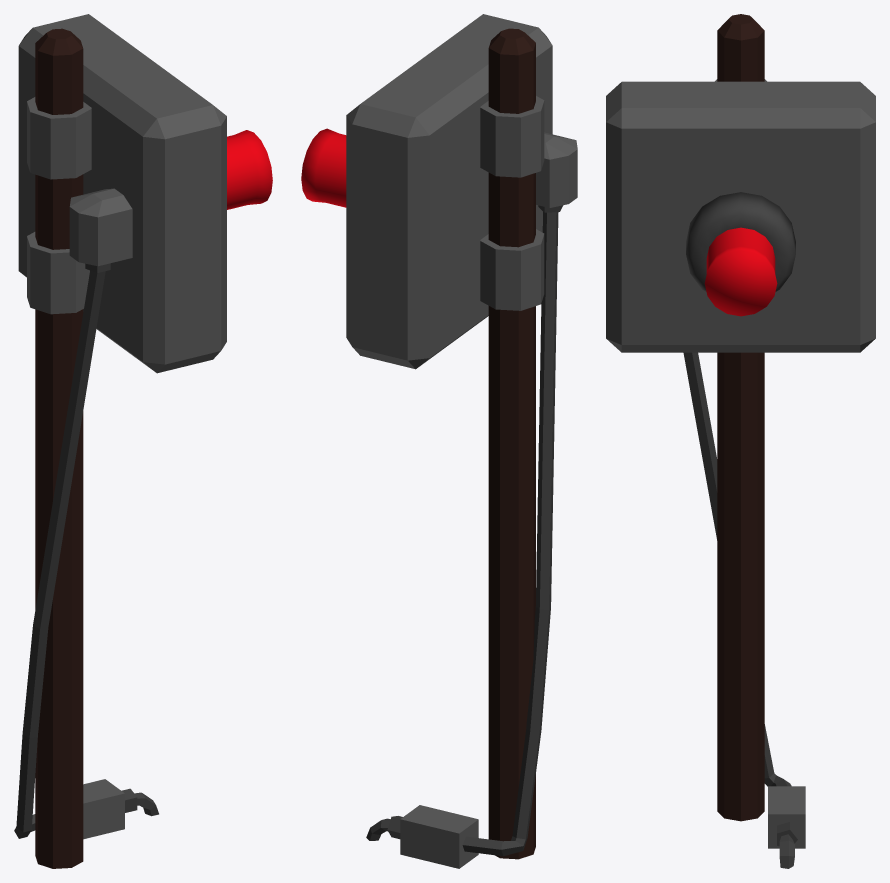
Rendered from Button.fbx.
3 renders of one model, left to right at view 1: azimuth 30°, elevation 25°; view 2: azimuth 150°, elevation 25°; view 3: azimuth 270°, elevation 25°, orthographic. The views are drawn at different scales.
Parts seen in each view (by area): view 1: Cube, Cylinder, Cylinder.005, Cube.001, Cylinder.003, Cylinder.004, Cylinder.002, Cube.002, Cylinder.006; view 2: Cube, Cylinder, Cylinder.005, Cylinder.003, Cylinder.004, Cube.002, Cylinder.002, Cube.001, Cylinder.006; view 3: Cube, Cylinder, Cylinder.001, Cylinder.002, Cylinder.005, Cube.002, Cylinder.006.
Part boxes in pixels (x1,y1,x2,y2): Cube: (18, 14, 226, 373); Cylinder: (35, 28, 83, 868); Cylinder.005: (14, 263, 110, 838); Cube.001: (69, 188, 132, 266); Cylinder.003: (27, 97, 91, 179); Cylinder.004: (27, 232, 89, 314); Cylinder.002: (227, 130, 272, 209); Cube.002: (83, 779, 124, 839); Cylinder.006: (121, 788, 158, 816); Cube: (346, 14, 552, 369); Cylinder: (488, 28, 535, 859); Cylinder.005: (462, 205, 562, 856); Cylinder.003: (480, 96, 544, 177); Cylinder.004: (480, 229, 544, 310); Cube.002: (400, 805, 478, 868); Cylinder.002: (301, 128, 346, 207); Cube.001: (536, 132, 577, 207); Cylinder.006: (366, 816, 402, 840); Cube: (606, 81, 875, 352); Cylinder: (717, 14, 764, 821); Cylinder.001: (686, 192, 795, 291); Cylinder.002: (704, 227, 777, 316); Cylinder.005: (683, 352, 791, 786); Cube.002: (768, 786, 805, 848); Cylinder.006: (777, 822, 797, 868).
Size of the model in its own units: 161 by 560 by 173.
